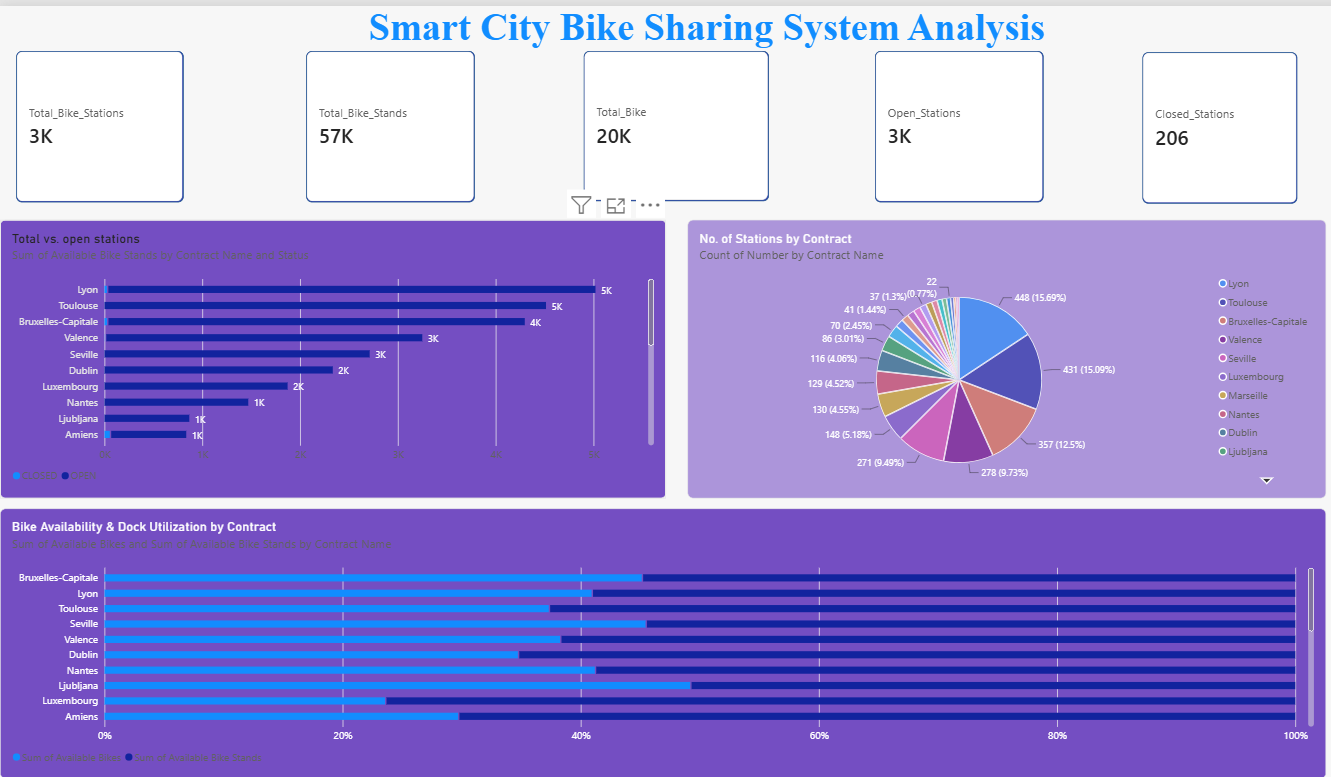

What the dashboard file says about the page in this screenshot:
{"tool":"powerbi","page":{"name":"Dashboard","canvas":[1920,1080],"ordinal":4},"visuals":[{"type":"cardVisual","fields":{"Data":["Contract_Table.Total_Bike_Stations"]},"box":[22.7,62.8,233.7,211],"z":0},{"type":"textbox","box":[514.5,0,961,62.8],"z":1},{"type":"cardVisual","fields":{"Data":["Contract_Table.Total_Bike_Stands"]},"box":[427.3,62.8,235.5,211],"z":2},{"type":"cardVisual","fields":{"Data":["Contract_Table.Total_Bike"]},"box":[814.5,62.8,258.1,209.3],"z":3},{"type":"cardVisual","fields":{"Data":["Contract_Table.Open_Stations"]},"box":[1220.9,62.8,235.5,211],"z":4},{"type":"cardVisual","fields":{"Data":["Contract_Table.Closed_Stations"]},"box":[1594.2,64.5,216,211],"z":5},{"type":"barChart","title":"Total vs. open stations","fields":{"Category":["Fact_Table.Contract Name"],"Series":["Fact_Table.Status"],"Y":["Sum(Fact_Table.Available Bike Stands)"]},"box":[0,298.3,929.7,389],"z":6},{"type":"pieChart","title":"No. of Stations by Contract","fields":{"Category":["Fact_Table.Contract Name"],"Y":["CountNonNull(Fact_Table.Number)"]},"box":[959.3,298.3,891.3,389],"z":7},{"type":"hundredPercentStackedBarChart","title":"Bike Availability & Dock Utilization by Contract","fields":{"Category":["Fact_Table.Contract Name"],"Y":["Sum(Fact_Table.Available Bikes)","Sum(Fact_Table.Available Bike Stands)"]},"box":[0,701.2,1850.6,378.5],"z":8}]}

Visuals, with their boxes on the page's 1920x1080 design canvas (x1, y1, x2, y2). These are canvas units, not pixel positions in the 1331x777 screenshot, which may show the page scaled, cropped or inside an application window:
cardVisual - Contract_Table.Total_Bike_Stations: left=23, top=63, right=256, bottom=274
textbox: left=514, top=0, right=1476, bottom=63
cardVisual - Contract_Table.Total_Bike_Stands: left=427, top=63, right=663, bottom=274
cardVisual - Contract_Table.Total_Bike: left=814, top=63, right=1073, bottom=272
cardVisual - Contract_Table.Open_Stations: left=1221, top=63, right=1456, bottom=274
cardVisual - Contract_Table.Closed_Stations: left=1594, top=64, right=1810, bottom=276
"Total vs. open stations" barChart: left=0, top=298, right=930, bottom=687
"No. of Stations by Contract" pieChart: left=959, top=298, right=1851, bottom=687
"Bike Availability & Dock Utilization by Contract" hundredPercentStackedBarChart: left=0, top=701, right=1851, bottom=1080
